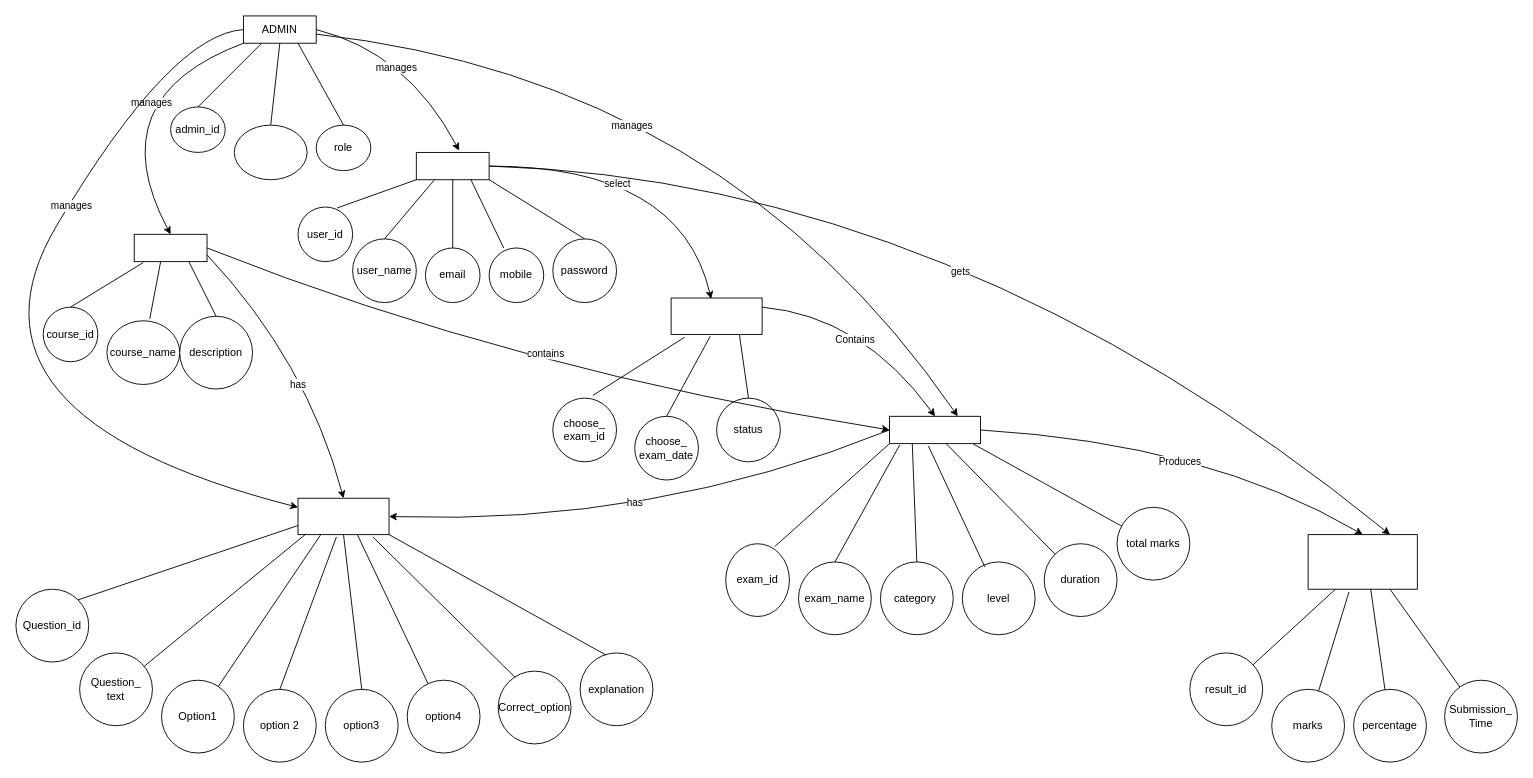
Image size: 1533x778. Some labels were removed from this diagram. Each missing label, with the box of its shape:
admin_name: (233, 124, 307, 180)
CHOOSE EXAM: (670, 297, 762, 334)
course: (133, 233, 207, 262)
EXAM: (889, 415, 981, 444)
QUESTION: (297, 497, 389, 535)
RESULT: (1307, 534, 1417, 589)
USER: (415, 152, 489, 180)
